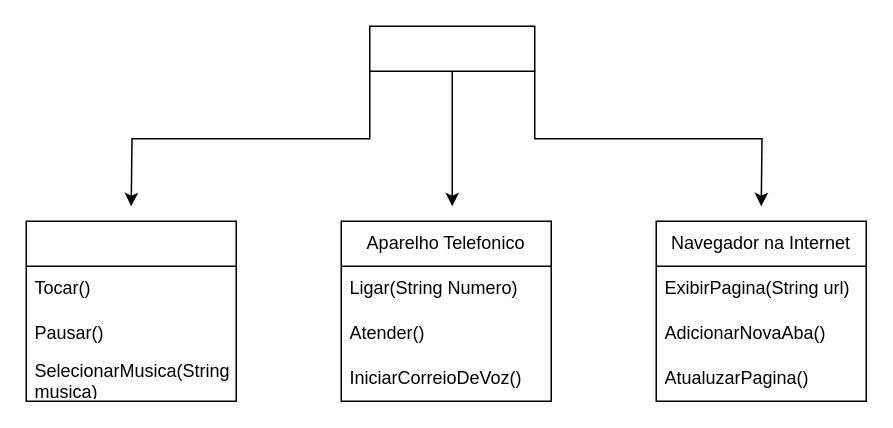
Image size: 893x428. Some labels were removed from this diagram. The box of each missing label's shape, as (x1, y1, x2, y2) in pixels:
Iphone: (368, 25, 535, 71)
Reprodutor Musical: (25, 220, 236, 401)
